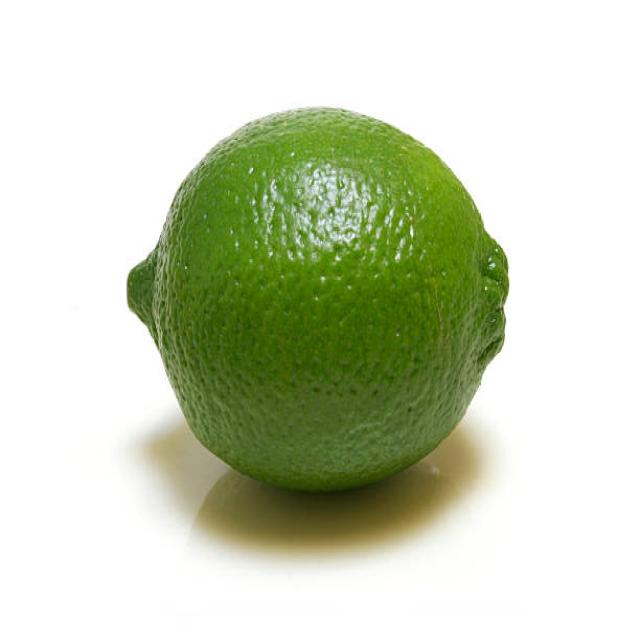Unripe: (127, 106, 510, 495)
